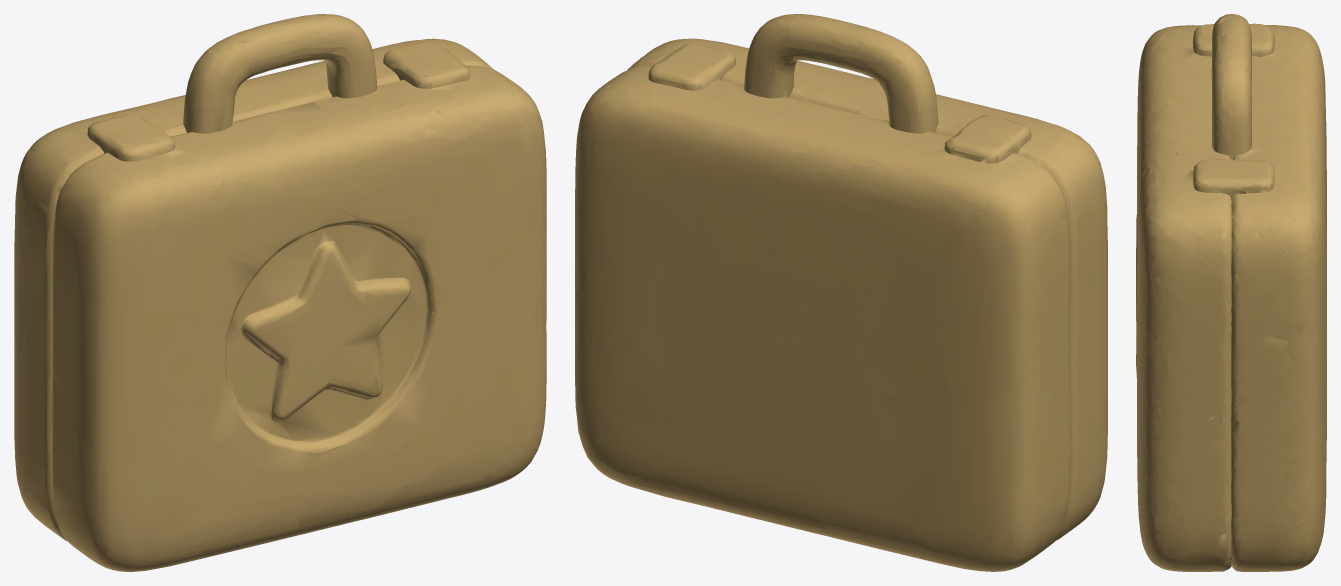
The model's file is t5-gold-v2.glb.
The picture shows the model from 3 angles, left to right: view 1: azimuth 30°, elevation 25°; view 2: azimuth 150°, elevation 25°; view 3: azimuth 270°, elevation 25°; orthographic projection. The views are drawn at different scales.
Parts seen in each view (by area): view 1: mesh_node; view 2: mesh_node; view 3: mesh_node.
Boxes of the visible parts, x1,y1,x2,y2 form: mesh_node: (14,14,546,571); mesh_node: (575,14,1107,571); mesh_node: (1136,14,1326,571).
Bounding box in the file's own units: 1.9 × 1.89 × 0.7237.
1 material, 1 textured.
